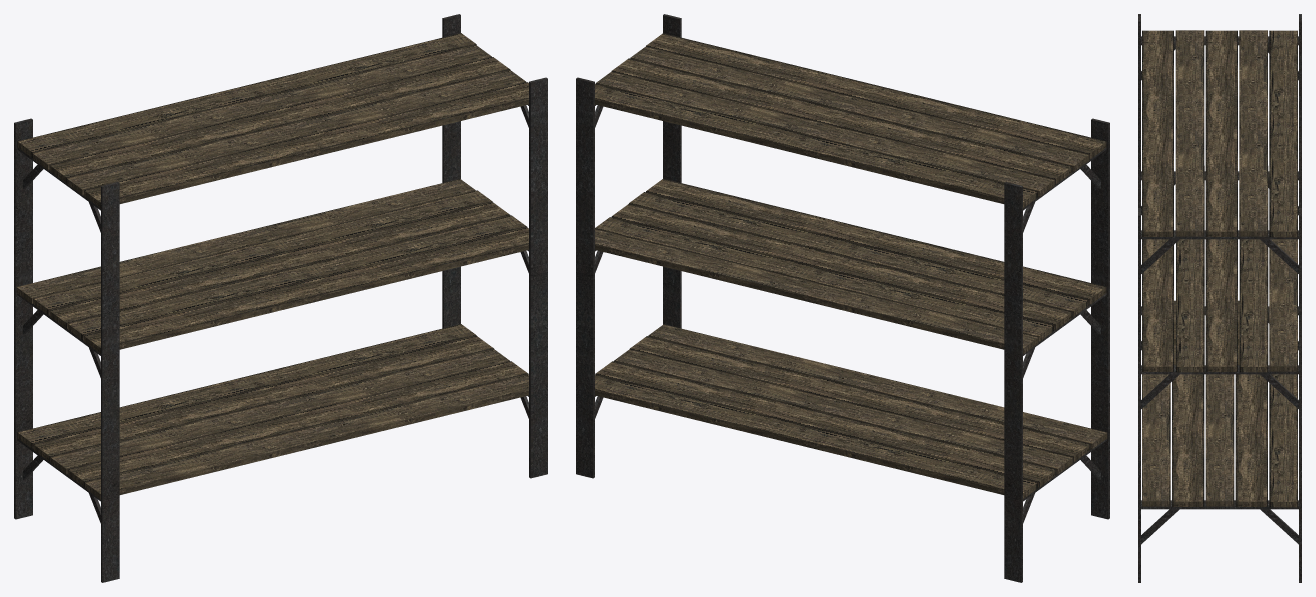
The model's file is shelf_mx_2.glb.
3 views of the same model, side by side, from view 1: azimuth 30°, elevation 25°; view 2: azimuth 150°, elevation 25°; view 3: azimuth 270°, elevation 25° (orthographic). The views are drawn at different scales.
Parts seen in each view (by area): view 1: shelf_mx_2; view 2: shelf_mx_2; view 3: shelf_mx_2.
Part boxes in pixels (x1=…): shelf_mx_2: x1=14, y1=14, x2=547, y2=582; shelf_mx_2: x1=576, y1=14, x2=1109, y2=582; shelf_mx_2: x1=1138, y1=14, x2=1301, y2=582.
Size of the model in its own units: 1.6 by 1.36 by 0.55.
Materials: 2 (2 with a texture image).
